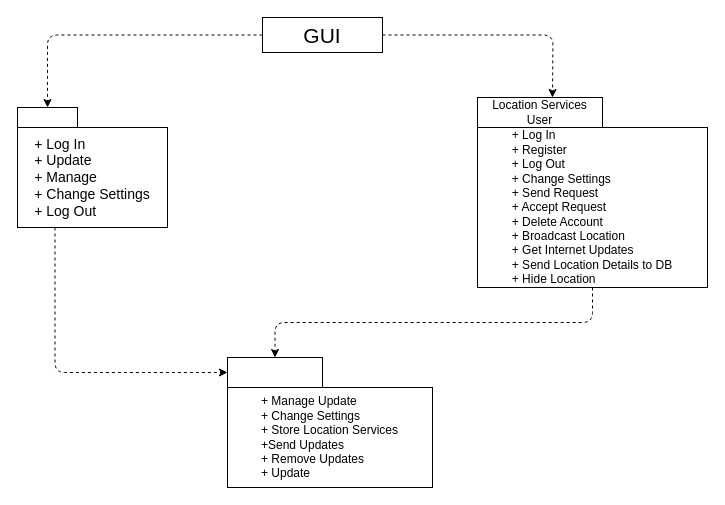
Image size: 725x505. Some labels were removed from this diagram. The centre of each missing label's shape, as x and y in pixels:
"Admin" belongs at [47,117].
"Database" belongs at [274,372].
